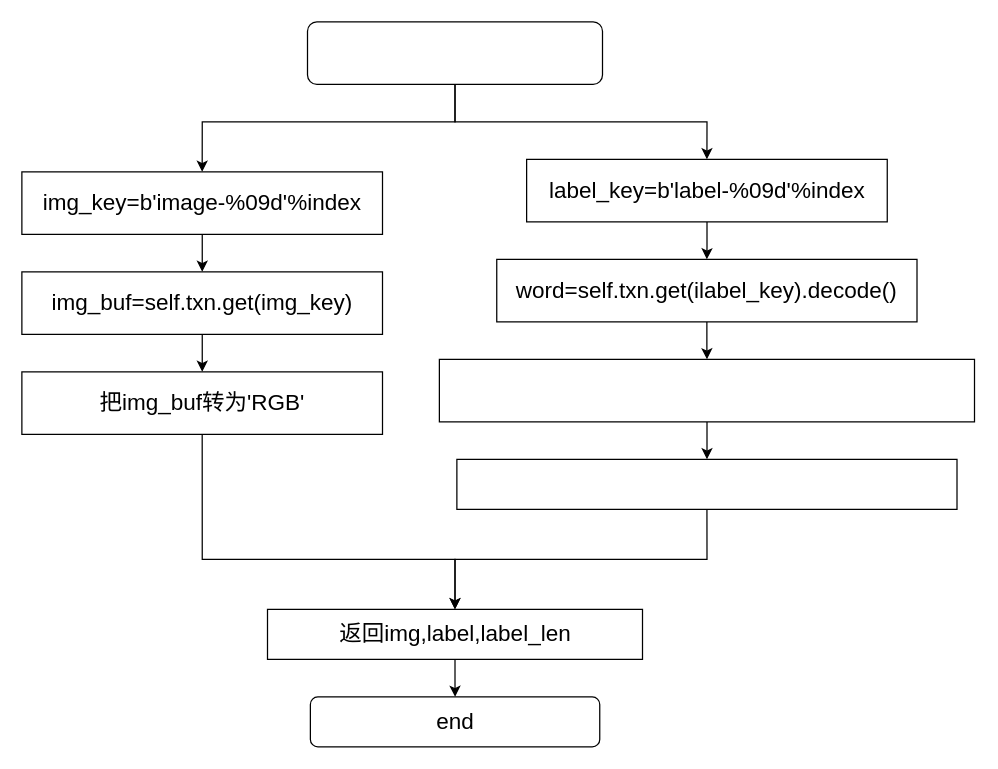
Some shapes in this 998 by 769 pixel diagram are drawn without their labels. Here are the shapes that lost their labels. From the top down, the centre of each, then its label:
the point at 454,52: start
the point at 706,390: 对word中的char进行处理，确保char为可识别字符
the point at 706,483: 为处理好的label添加上<EOS>作为结束符
